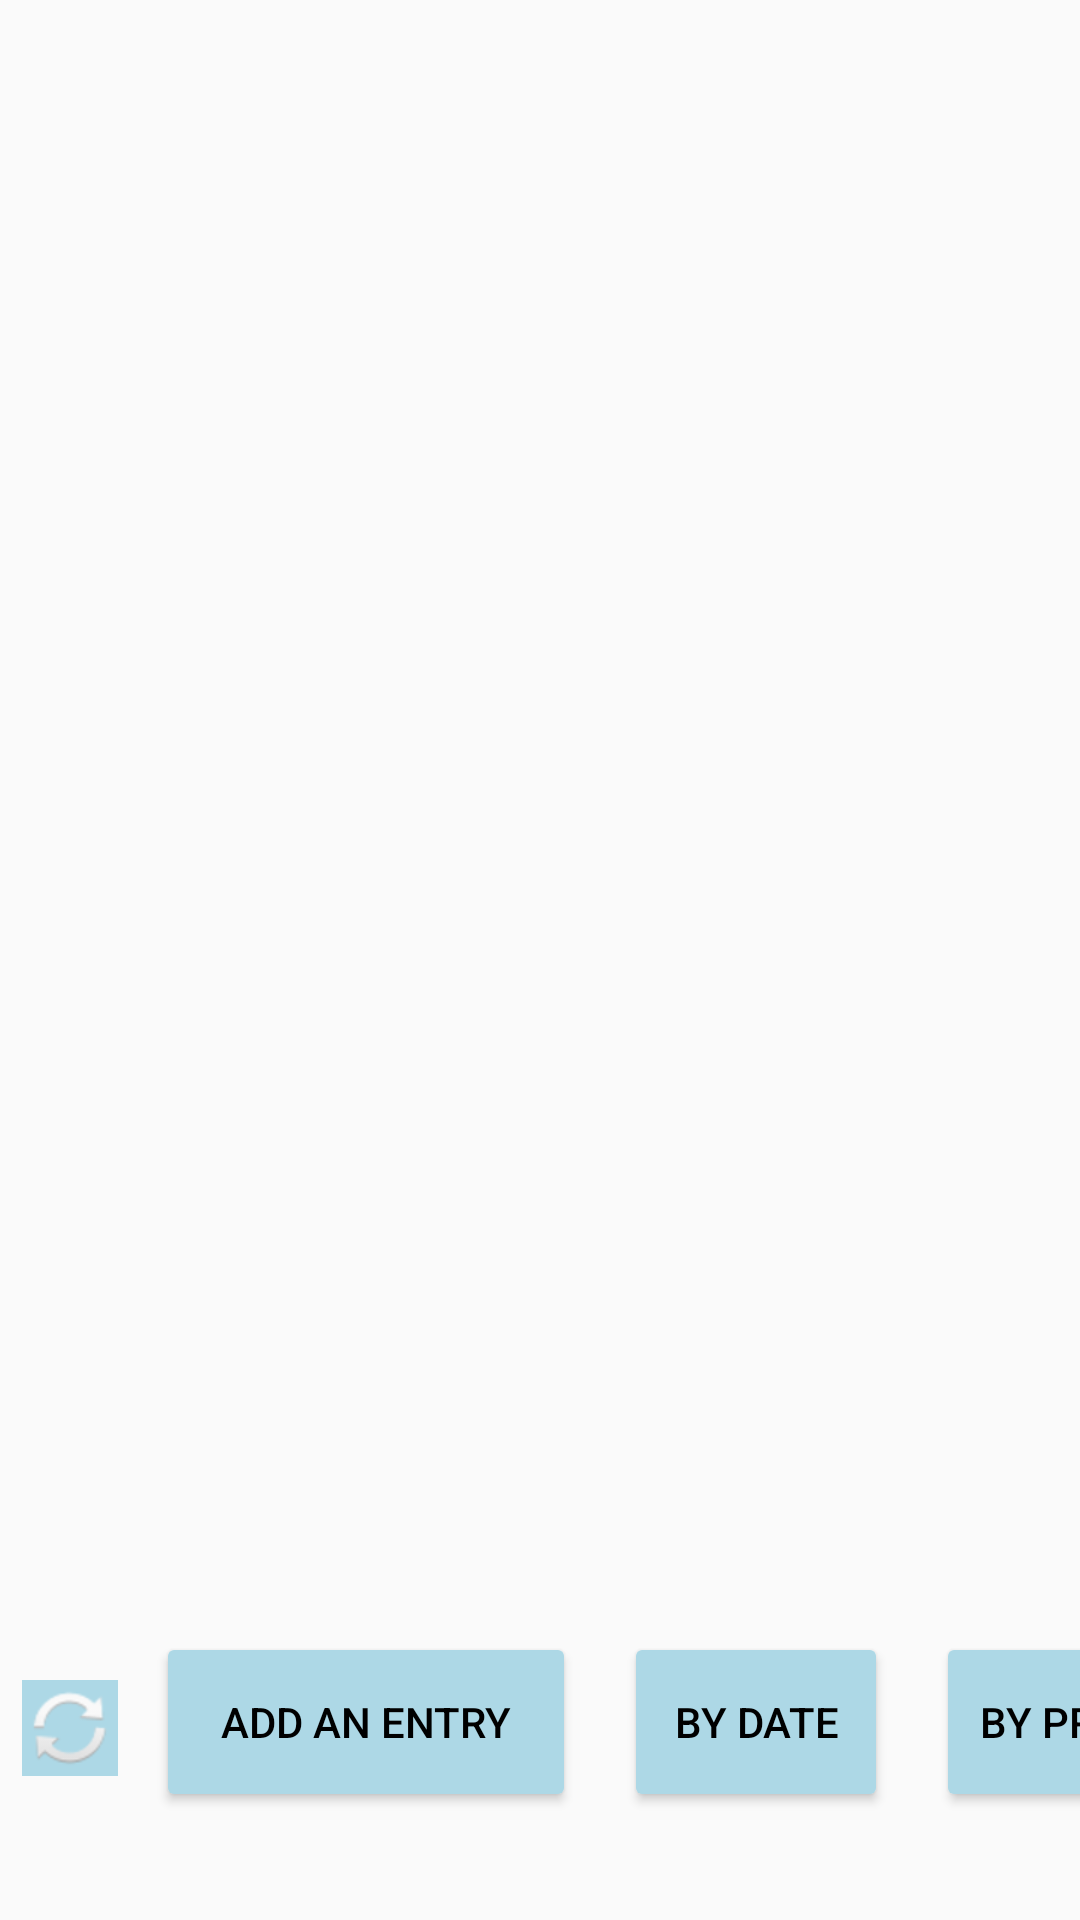

Named icons in this screenshot (1080px x 1920px) and their centers, (x,y):
popup sync: (70,1728)
